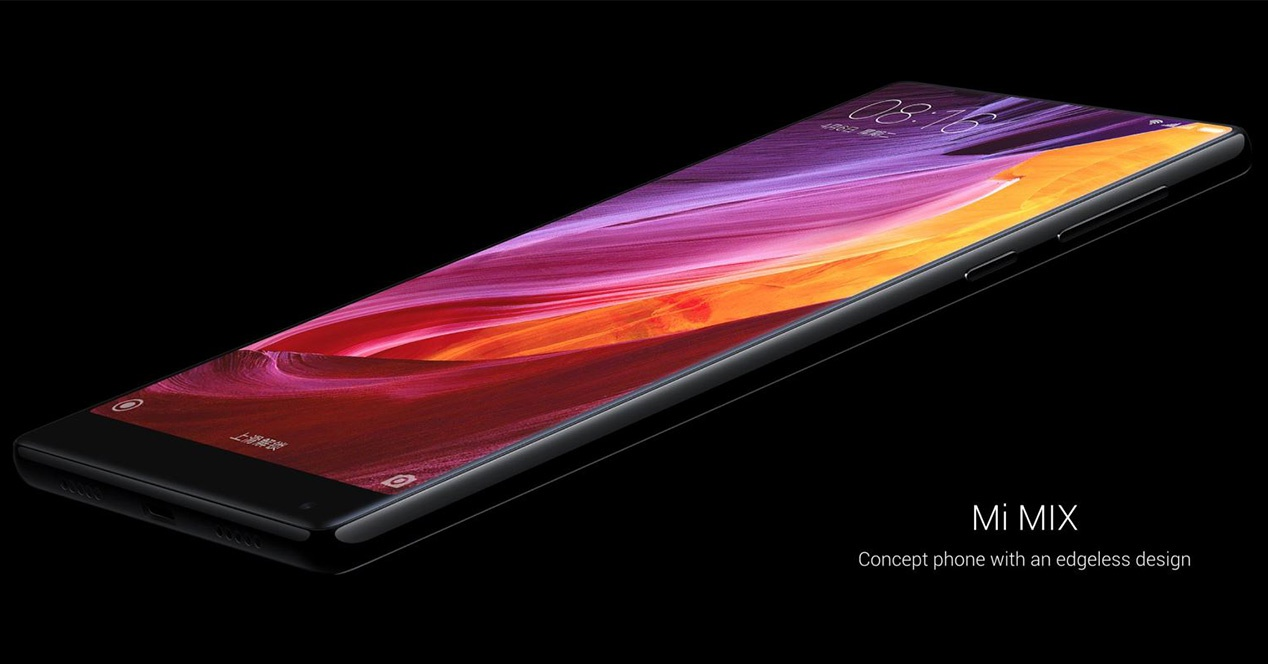smartphone: (15, 80, 1253, 577)
